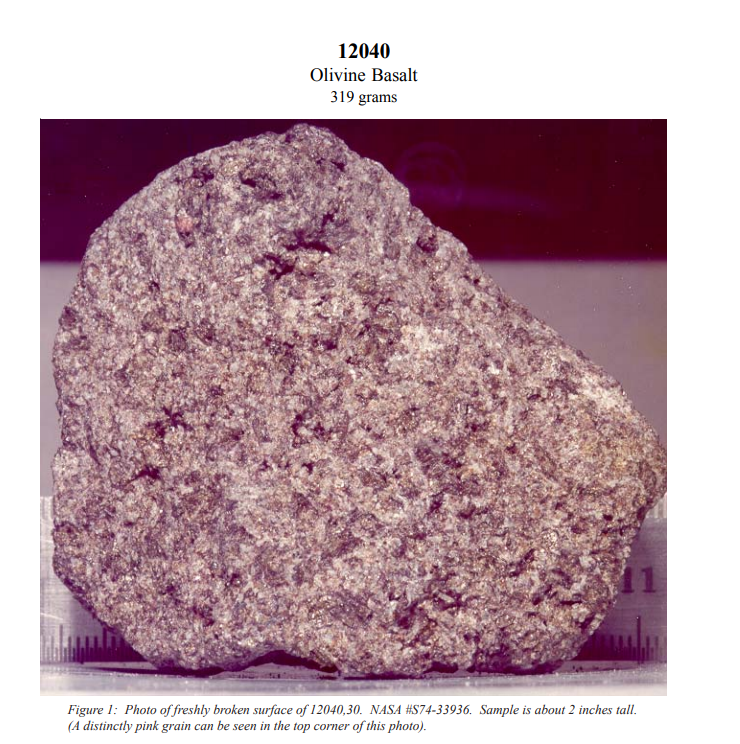Basalt: (80, 163, 620, 651), (201, 254, 537, 580)
